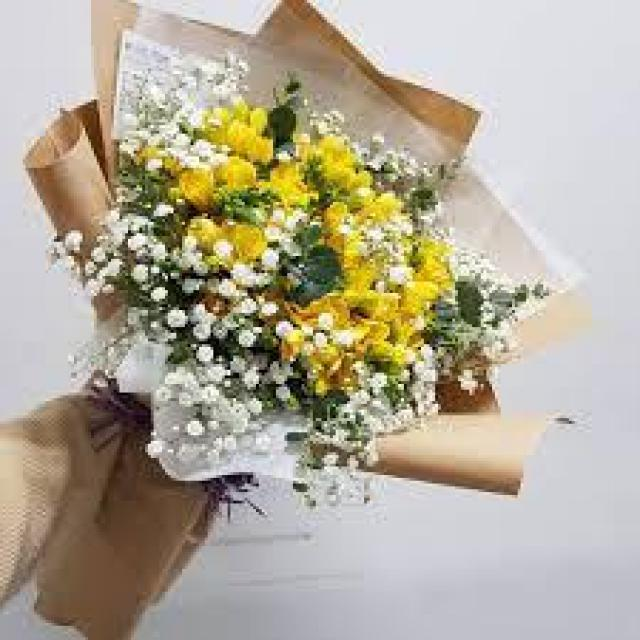freesia: (299, 119, 362, 207), (202, 106, 279, 168), (371, 282, 428, 350), (178, 158, 217, 200)
gypsophila: (65, 212, 288, 456), (290, 356, 428, 513), (121, 41, 202, 168)
